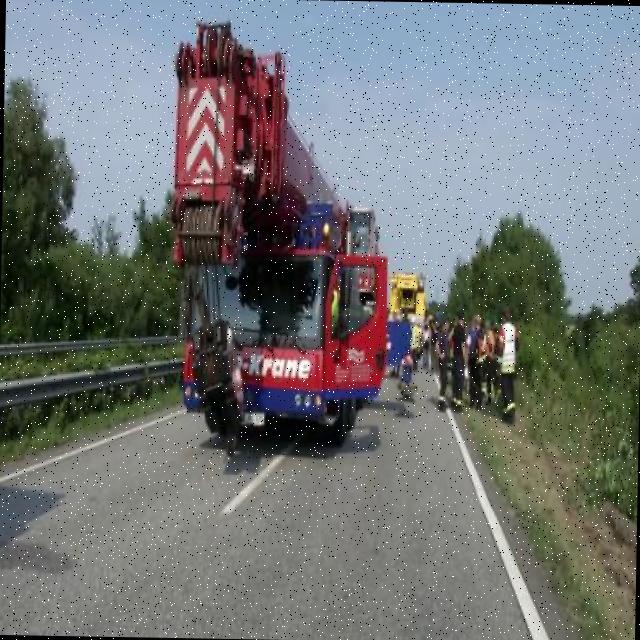Mobile Crane: (166, 25, 390, 453)
